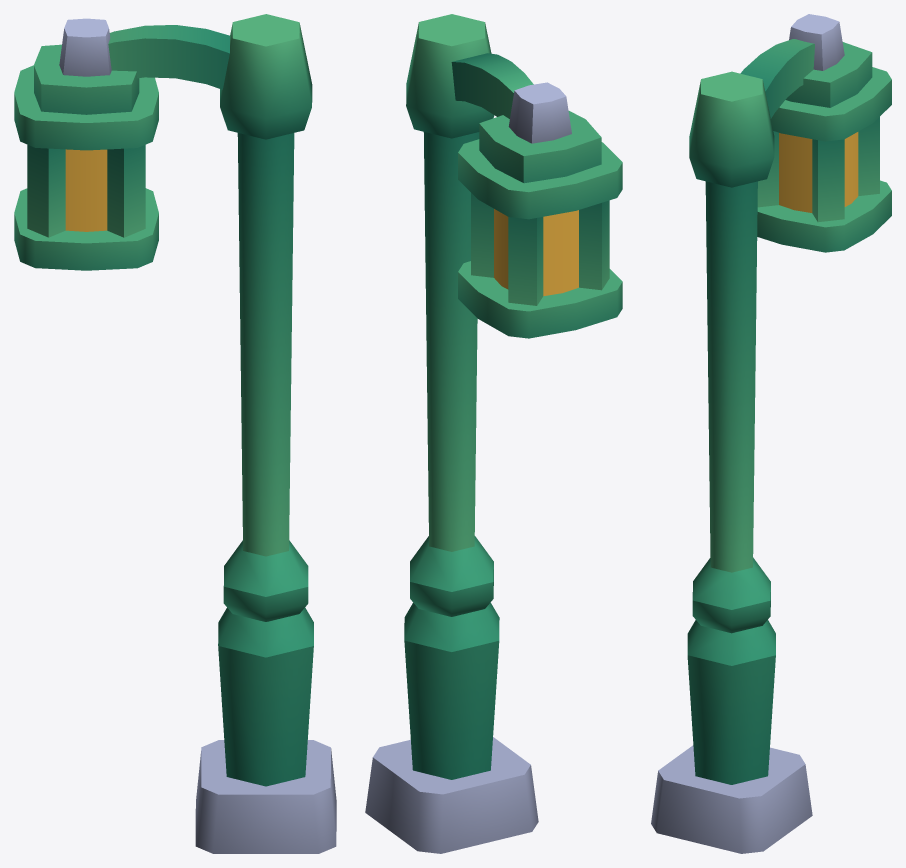
Rendered from lightpost-single.002_lev2.glb.
The picture shows the model from 3 angles, left to right: view 1: azimuth 30°, elevation 25°; view 2: azimuth 150°, elevation 25°; view 3: azimuth 270°, elevation 25°; orthographic projection. The views are drawn at different scales.
Visible parts, largest first — view 1: lightpost-single.002_lev2; view 2: lightpost-single.002_lev2; view 3: lightpost-single.002_lev2.
Boxes of the visible parts, box(x1,y1,x2,y2) form: lightpost-single.002_lev2: box(14, 14, 336, 853); lightpost-single.002_lev2: box(365, 14, 622, 853); lightpost-single.002_lev2: box(651, 14, 891, 853).
Size of the model in its own units: 3.76 by 10.13 by 3.01.
Materials: 1 (1 with a texture image).
